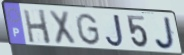5: (125, 14, 150, 50)
G: (74, 12, 102, 47)
H: (22, 8, 53, 46)
J: (154, 16, 178, 51), (104, 14, 126, 49)
X: (47, 9, 78, 47)
